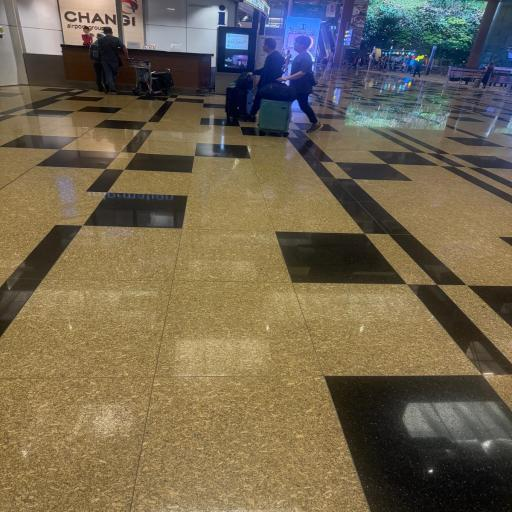person_with_luggage_left: (256, 35, 324, 136), (224, 38, 287, 124)
